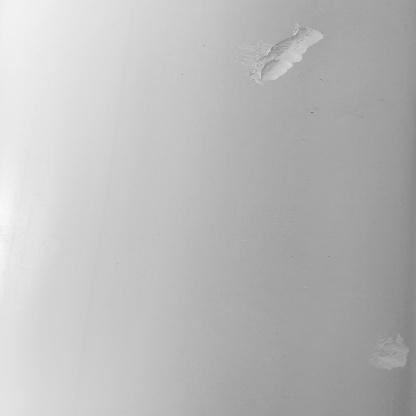sunshang: (244, 25, 333, 92), (367, 331, 411, 371)
